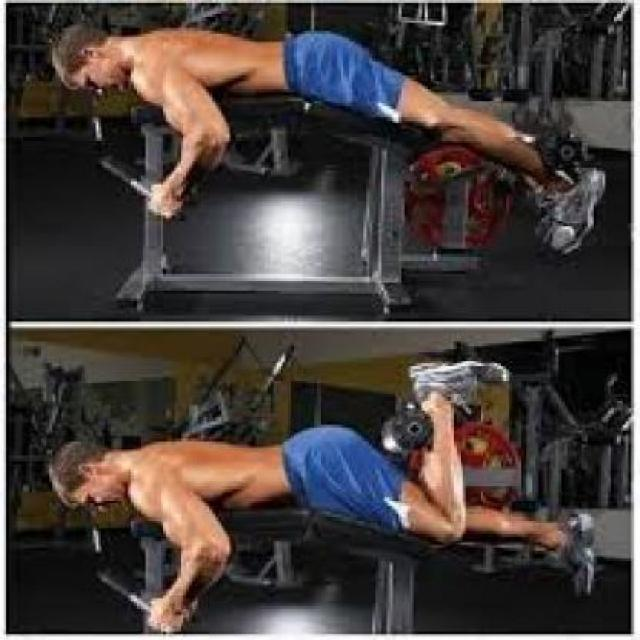reg curl machine: (34, 17, 240, 298)
